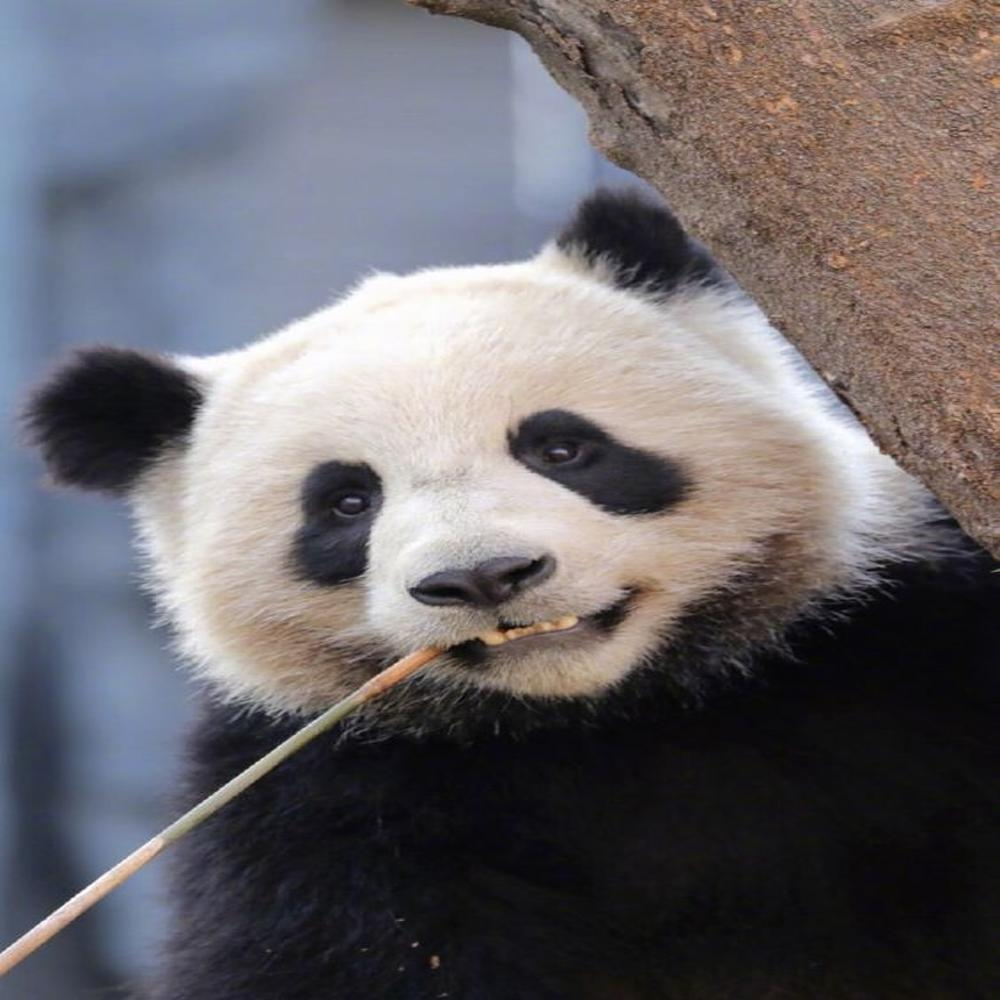panda: (20, 188, 1000, 1000)
